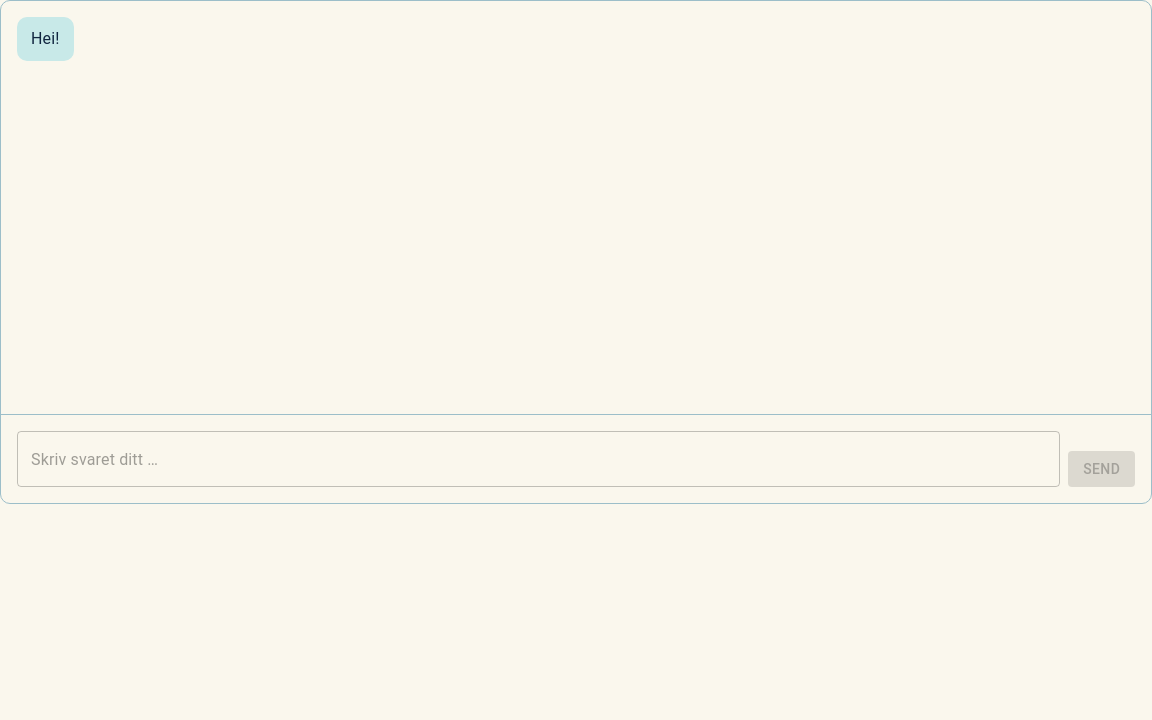
Test case: AgentChat › shows the user message, a thinking indicator, and then the reply
The width and height of the screenshot is (1152, 720).
Later steps or results of the test are not shown.
Type "Butikkmedarbeider" into the text box named "Melding". click: (539, 459)
box: [31, 448, 1046, 470]
Then press Enter
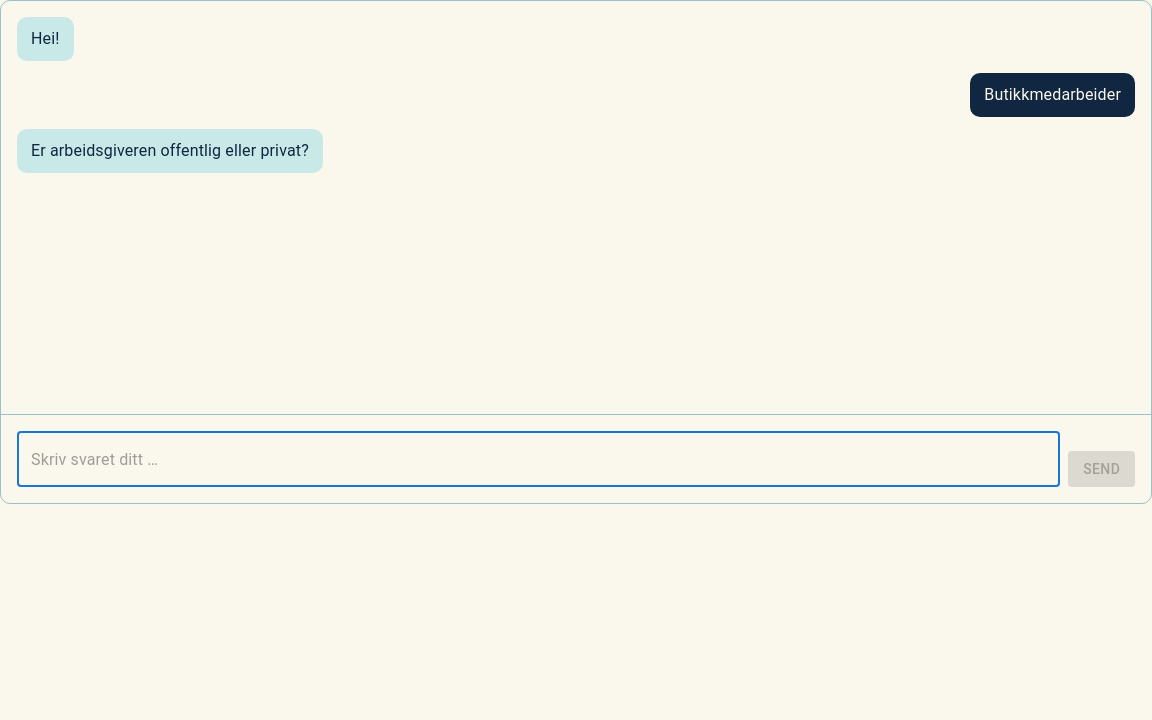
Expected: the button "Send" is disabled, [1068, 450, 1135, 487]
Result: the list item "Butikkmedarbeider" is shown at [970, 73, 1135, 117]
Result: the list item "Er arbeidsgiveren offentlig eller privat?" is shown at [17, 129, 323, 173]
